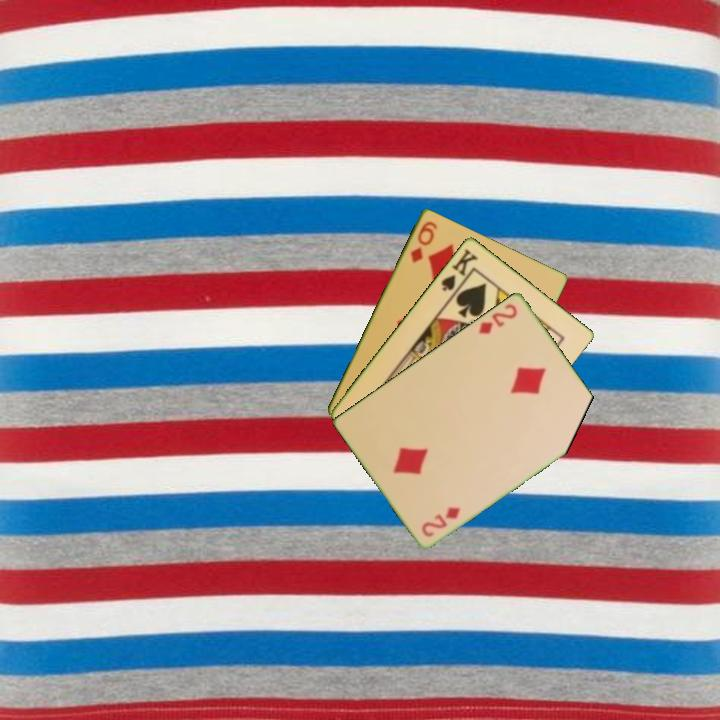2d: (475, 300, 520, 337), (418, 503, 463, 540)
6d: (406, 217, 440, 265)
Ks: (437, 245, 481, 294)
